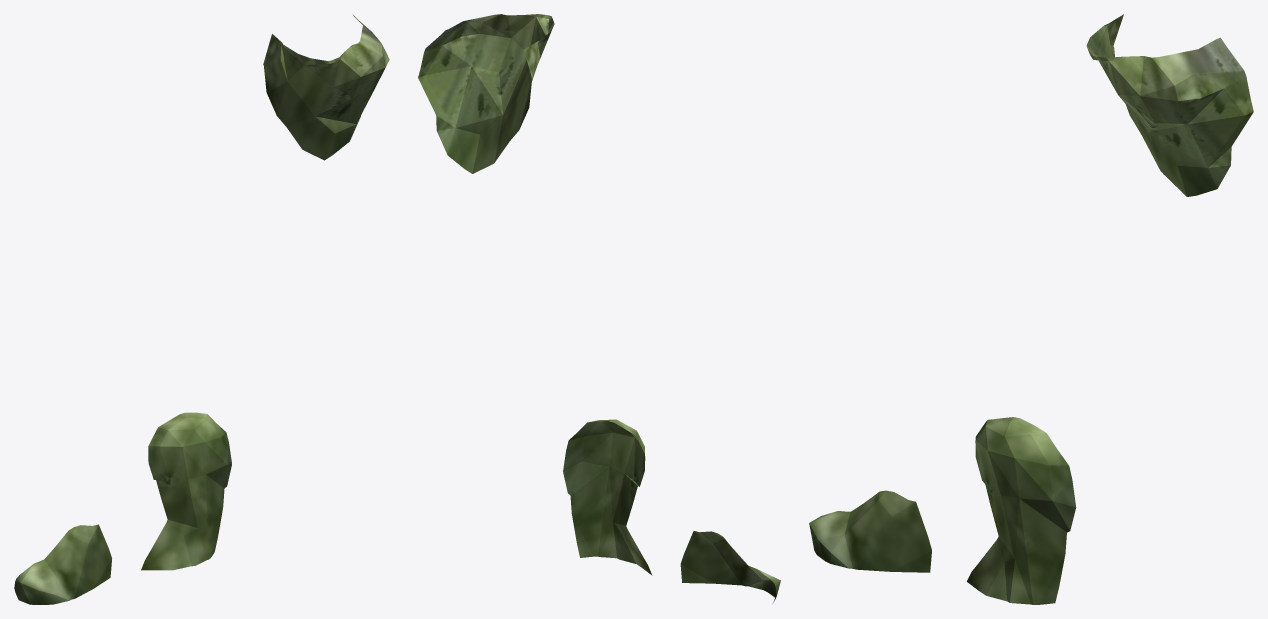
The picture shows the model from 3 angles, left to right: view 1: azimuth 30°, elevation 25°; view 2: azimuth 150°, elevation 25°; view 3: azimuth 330°, elevation 25°; orthographic projection. The views are drawn at different scales.
Bounding box in the file's own units: 2.24 × 2.95 × 0.4489.
1 material, 1 textured.
